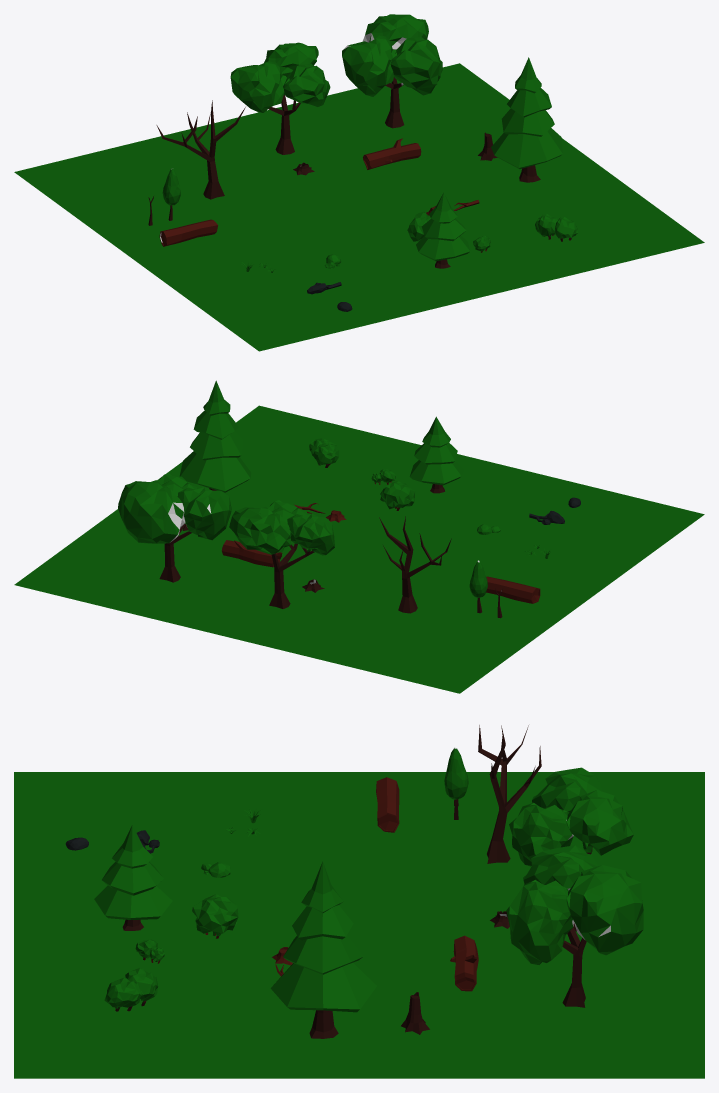
File: Bosque.obj
The picture shows the model from 3 angles, top to bottom: view 1: azimuth 30°, elevation 25°; view 2: azimuth 150°, elevation 25°; view 3: azimuth 270°, elevation 25°; orthographic projection. The views are drawn at different scales.
Visible parts, largest first — view 1: SimpleGround_Plane.024, Tree_average_lush_Cube.004, Tree_average_regular_Cube.002, Tree_Spruce_small_01_Cylinder.016, Tree_Spruce_tiny_02_Cylinder.014, Tree_average_bare_Cube, Log_big_knotty_Cylinder.017, Log_big_regular_Cylinder.015, Bush_group_average_Plane.137, Tree_small_regular_Cube.005; view 2: SimpleGround_Plane.024, Tree_average_lush_Cube.004, Tree_average_regular_Cube.002, Tree_Spruce_small_01_Cylinder.016, Tree_Spruce_tiny_02_Cylinder.014, Tree_average_bare_Cube, Log_big_regular_Cylinder.015, Log_big_knotty_Cylinder.017, Bush_average_Plane.001, Bush_group_average_Plane.137, Tree_small_regular_Cube.005; view 3: SimpleGround_Plane.024, Tree_average_lush_Cube.004, Tree_Spruce_small_01_Cylinder.016, Tree_average_regular_Cube.002, Tree_Spruce_tiny_02_Cylinder.014, Tree_average_bare_Cube, Bush_group_average_Plane.137, Bush_average_Plane.001, Log_big_knotty_Cylinder.017, Log_big_regular_Cylinder.015, Tree_small_regular_Cube.005, Stump_average_high_Cube.015.
Boxes of the visible parts, left/top/right/bottom form: SimpleGround_Plane.024: left=14, top=63, right=704, bottom=351; Tree_average_lush_Cube.004: left=342, top=14, right=442, bottom=128; Tree_average_regular_Cube.002: left=230, top=42, right=330, bottom=154; Tree_Spruce_small_01_Cylinder.016: left=491, top=57, right=562, bottom=182; Tree_Spruce_tiny_02_Cylinder.014: left=416, top=192, right=470, bottom=268; Tree_average_bare_Cube: left=156, top=100, right=245, bottom=199; Log_big_knotty_Cylinder.017: left=363, top=138, right=421, bottom=169; Log_big_regular_Cylinder.015: left=159, top=219, right=218, bottom=246; Bush_group_average_Plane.137: left=535, top=213, right=577, bottom=241; Tree_small_regular_Cube.005: left=162, top=168, right=180, bottom=220; SimpleGround_Plane.024: left=14, top=405, right=704, bottom=693; Tree_average_lush_Cube.004: left=118, top=473, right=231, bottom=582; Tree_average_regular_Cube.002: left=229, top=500, right=334, bottom=608; Tree_Spruce_small_01_Cylinder.016: left=179, top=380, right=251, bottom=492; Tree_Spruce_tiny_02_Cylinder.014: left=409, top=416, right=463, bottom=493; Tree_average_bare_Cube: left=379, top=516, right=451, bottom=613; Log_big_regular_Cylinder.015: left=486, top=576, right=540, bottom=603; Log_big_knotty_Cylinder.017: left=221, top=540, right=282, bottom=567; Bush_average_Plane.001: left=380, top=481, right=415, bottom=510; Bush_group_average_Plane.137: left=309, top=438, right=339, bottom=467; Tree_small_regular_Cube.005: left=469, top=560, right=487, bottom=613; SimpleGround_Plane.024: left=14, top=772, right=704, bottom=1078; Tree_average_lush_Cube.004: left=506, top=845, right=643, bottom=1007; Tree_Spruce_small_01_Cylinder.016: left=270, top=861, right=376, bottom=1038; Tree_average_regular_Cube.002: left=509, top=767, right=633, bottom=931; Tree_Spruce_tiny_02_Cylinder.014: left=94, top=825, right=172, bottom=930; Tree_average_bare_Cube: left=478, top=725, right=541, bottom=863; Bush_group_average_Plane.137: left=104, top=967, right=158, bottom=1011; Bush_average_Plane.001: left=192, top=894, right=238, bottom=938; Log_big_knotty_Cylinder.017: left=450, top=935, right=478, bottom=991; Log_big_regular_Cylinder.015: left=376, top=777, right=399, bottom=832; Tree_small_regular_Cube.005: left=444, top=747, right=468, bottom=819; Stump_average_high_Cube.015: left=401, top=992, right=429, bottom=1034.
Size of the model in its own units: 69.88 by 18.32 by 66.55.
